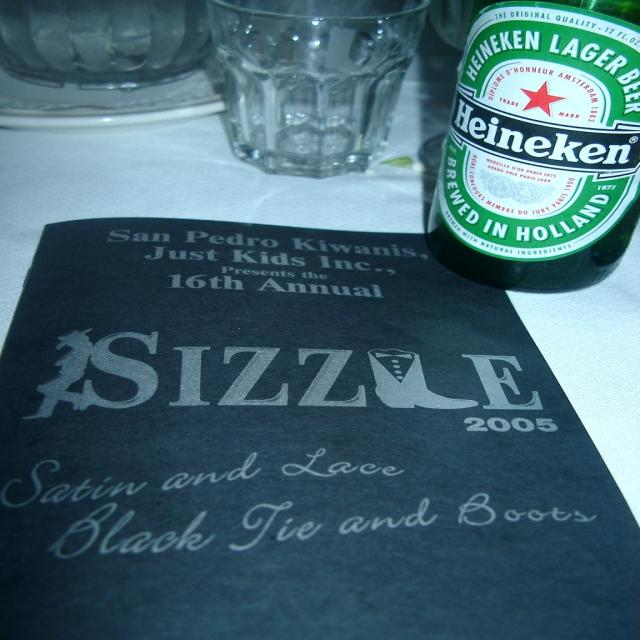heineken: (437, 2, 640, 263)
